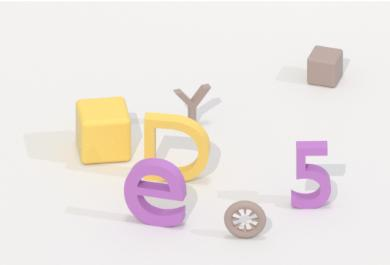0-KhoiVuong: (70, 92, 136, 168), (302, 41, 348, 90)
0-TronLo: (220, 197, 268, 244)
5: (285, 134, 335, 214)
D: (140, 107, 213, 185)
e: (119, 154, 189, 232)
